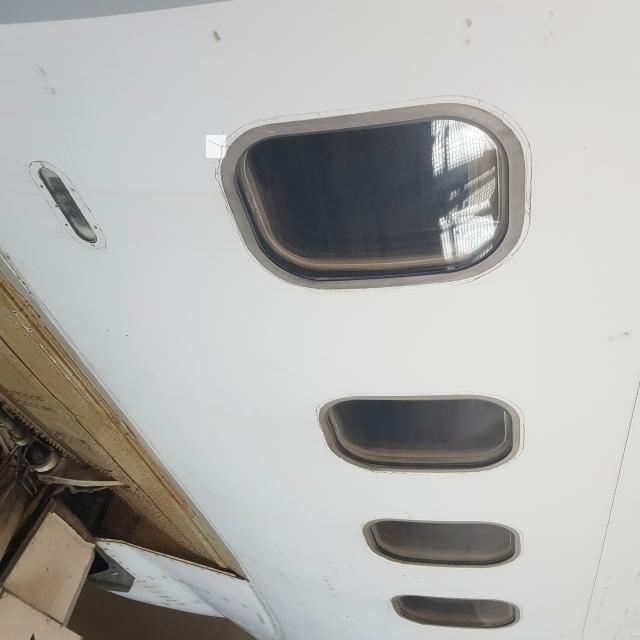crack: (207, 136, 227, 159)
